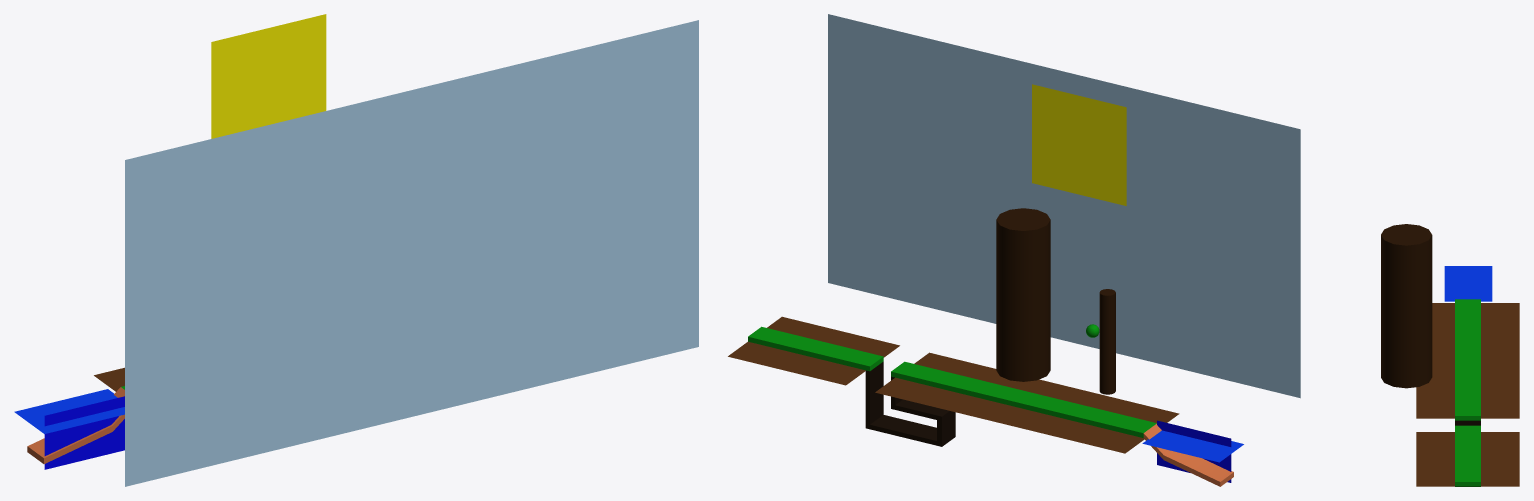
Rendered from fbx_Environment.FBX.
The picture shows the model from 3 angles, left to right: view 1: azimuth 30°, elevation 25°; view 2: azimuth 150°, elevation 25°; view 3: azimuth 270°, elevation 25°; orthographic projection. The views are drawn at different scales.
Visible parts, largest first — view 1: obj_BackgroundImage, obj_Sun, obj_WaterBackground, obj_WaterSurface, obj_WaterBottom; view 2: obj_BackgroundImage, obj_Ground, obj_Sun, obj_TotemTree, obj_Grass, obj_UndergroundEdges, obj_BackgroundTree, obj_WaterSurface, obj_WaterBottom, obj_WaterBackground; view 3: obj_Ground, obj_TotemTree, obj_Grass, obj_WaterSurface.
Part boxes in pixels (left/top/right/bottom): obj_BackgroundImage: left=125, top=20, right=698, bottom=486; obj_Sun: left=211, top=14, right=326, bottom=138; obj_WaterBackground: left=44, top=396, right=124, bottom=469; obj_WaterSurface: left=14, top=389, right=124, bottom=433; obj_WaterBottom: left=27, top=387, right=124, bottom=463; obj_BackgroundImage: left=828, top=14, right=1300, bottom=398; obj_Ground: left=728, top=316, right=1179, bottom=453; obj_Sun: left=1032, top=84, right=1126, bottom=205; obj_TotemTree: left=996, top=208, right=1050, bottom=381; obj_Grass: left=748, top=326, right=1156, bottom=437; obj_UndergroundEdges: left=865, top=361, right=955, bottom=446; obj_BackgroundTree: left=1099, top=289, right=1115, bottom=394; obj_WaterSurface: left=1142, top=430, right=1243, bottom=462; obj_WaterBottom: left=1143, top=423, right=1233, bottom=486; obj_WaterBackground: left=1157, top=420, right=1231, bottom=482; obj_Ground: left=1416, top=303, right=1519, bottom=486; obj_TotemTree: left=1381, top=224, right=1432, bottom=388; obj_Grass: left=1455, top=299, right=1480, bottom=486; obj_WaterSurface: left=1444, top=266, right=1492, bottom=301.
Bounding box in the file's own units: 1011 × 369 × 721.
